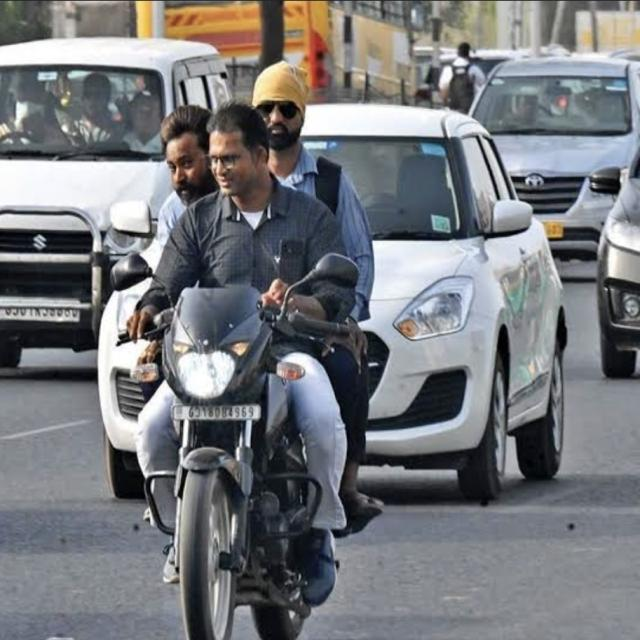WithoutHelmet: (128, 105, 356, 606), (250, 59, 383, 535), (152, 105, 217, 251)
